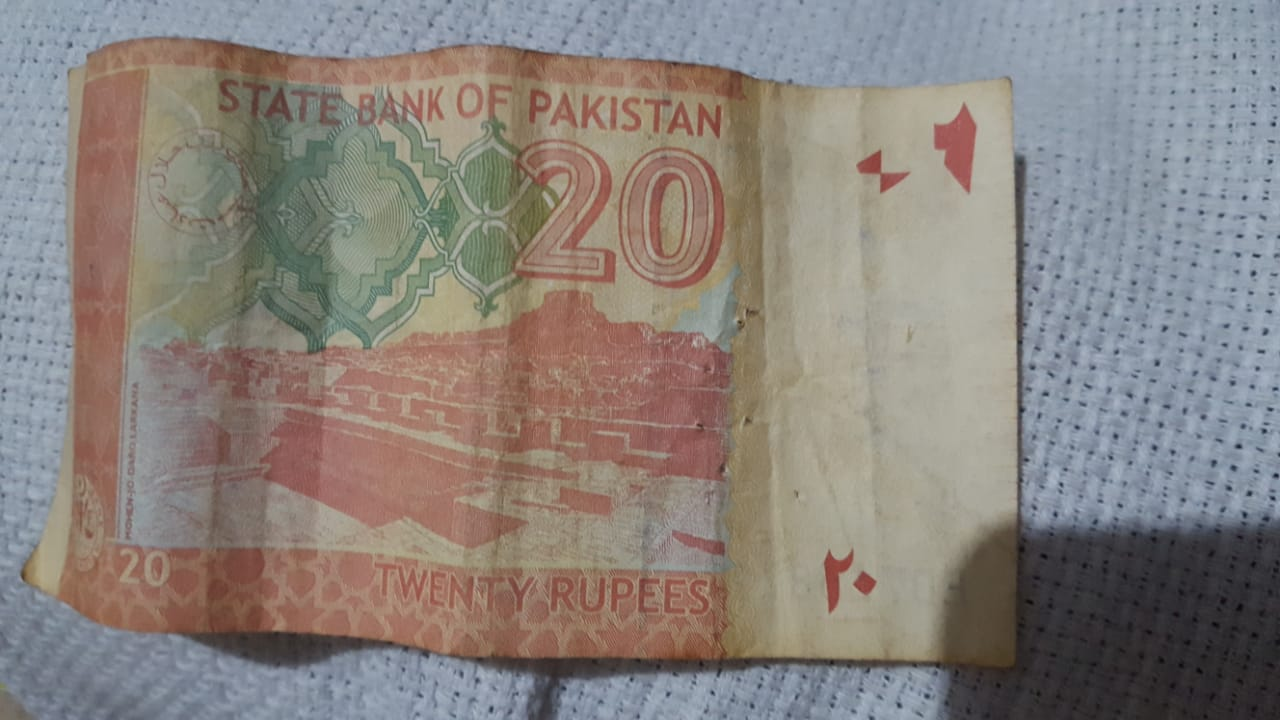20 rupee: (43, 28, 1061, 675)
